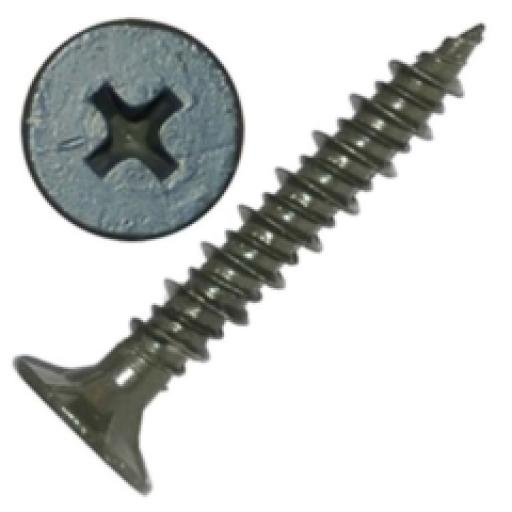Phillips: (19, 18, 247, 240)
